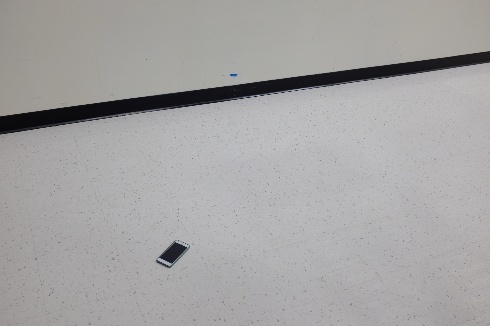phone: (149, 238, 198, 270)
